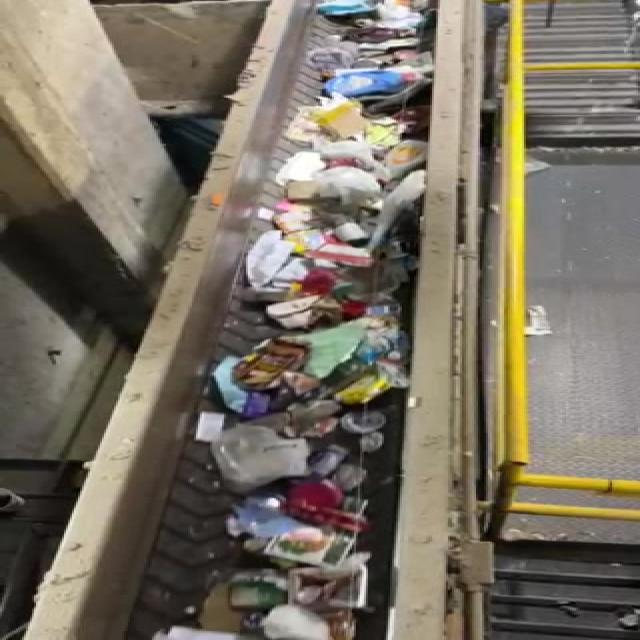paper: (223, 514, 374, 562), (182, 401, 240, 453)
pp: (282, 564, 370, 616), (336, 413, 404, 464)
ps: (210, 421, 317, 494)
